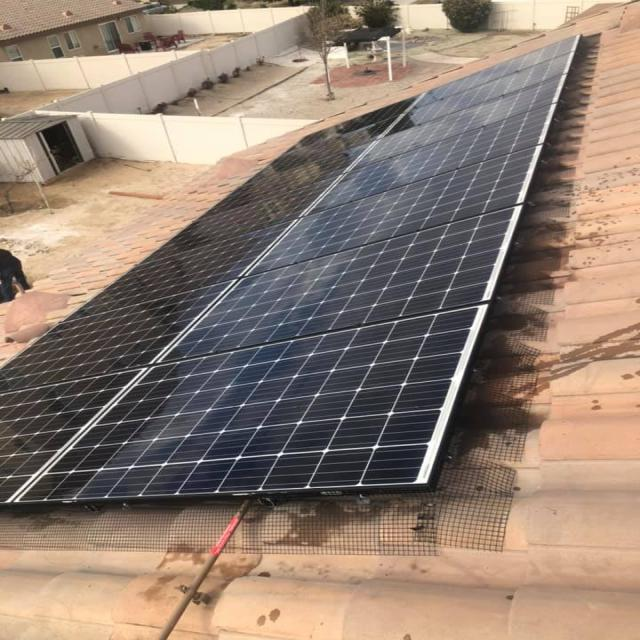clean-solar-panel: (2, 38, 577, 505)
